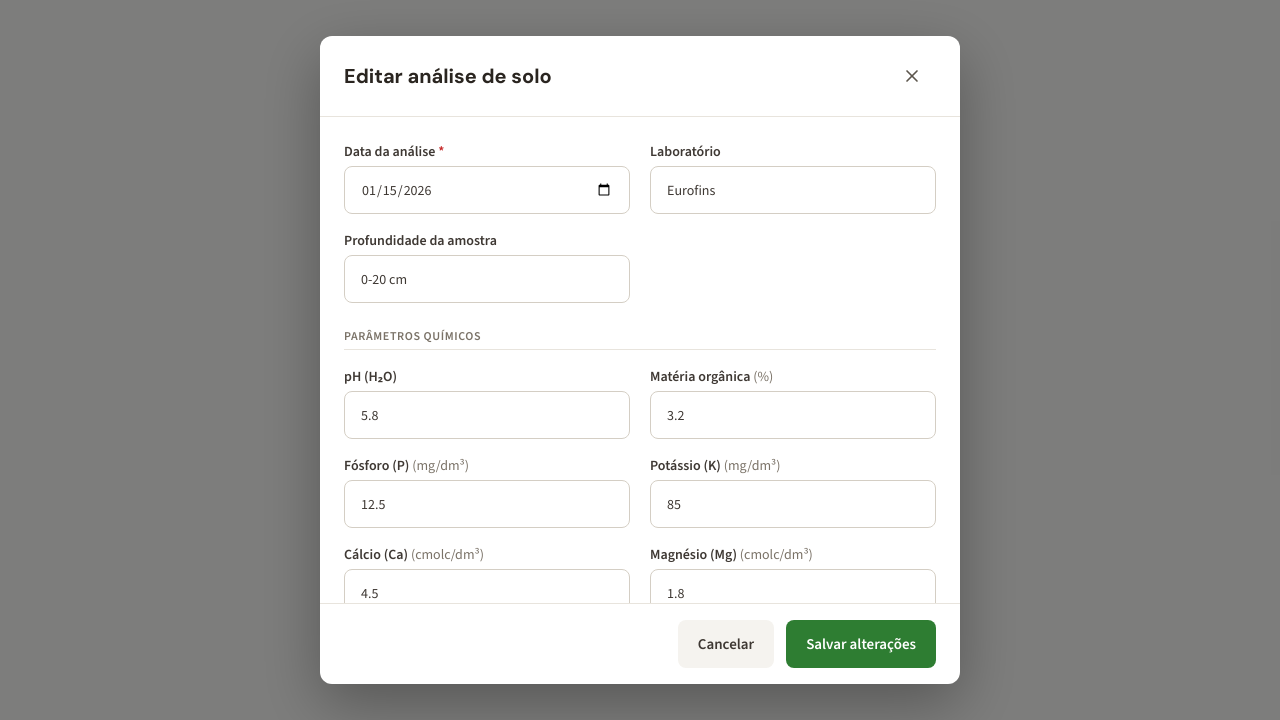
Scenario: EditSoilAnalysisModal › shows error state on API failure
Click the button "Salvar alterações" at (861, 644), box [786,620,936,668]
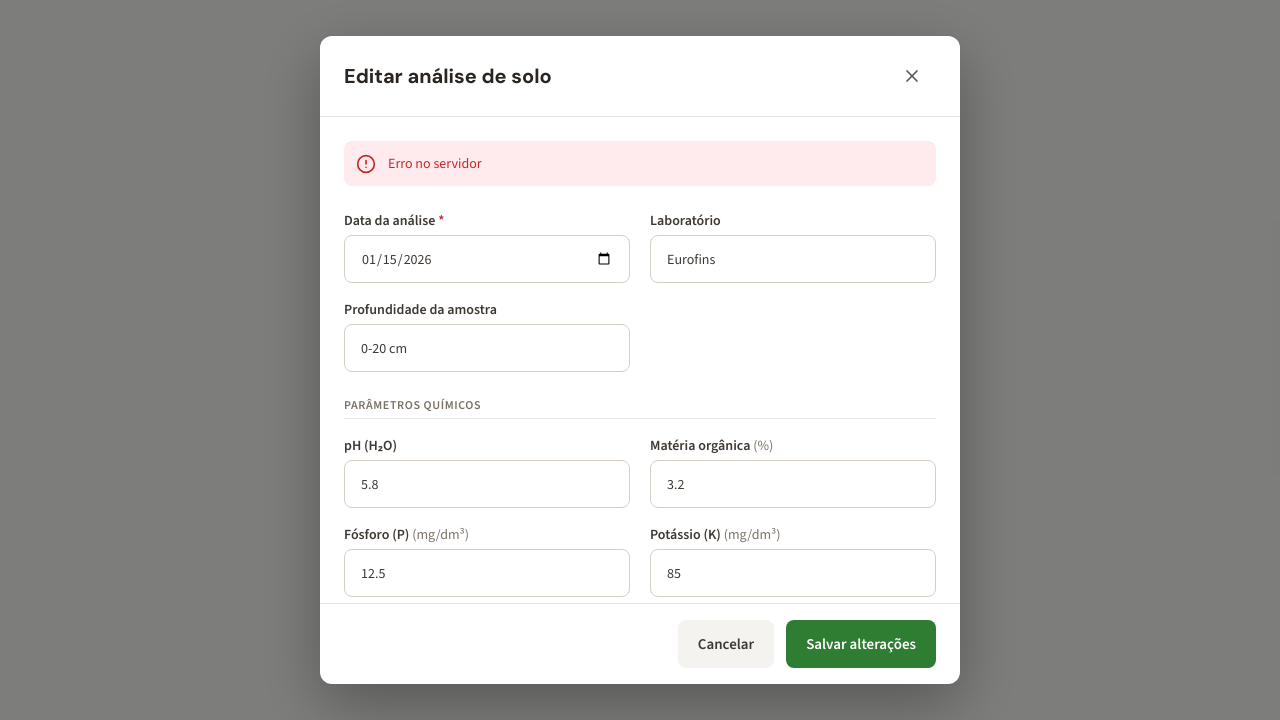
expect the message reads "Erro no servidor": met, box [388,154,482,173]
